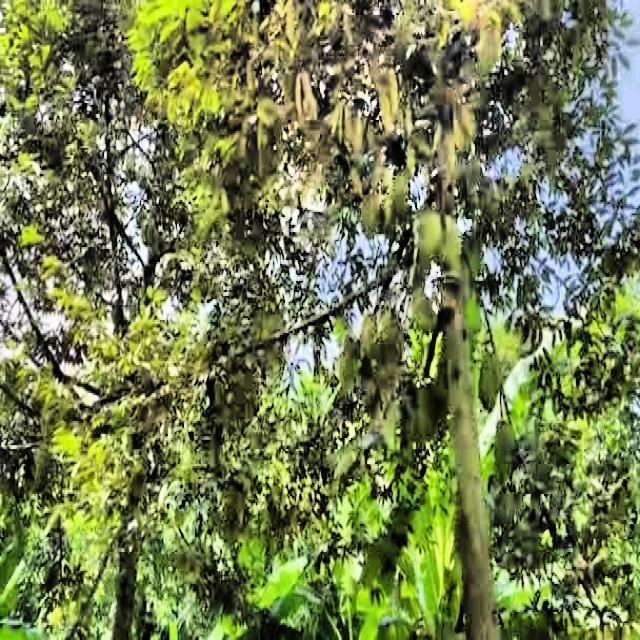arvore: (424, 189, 519, 640)
